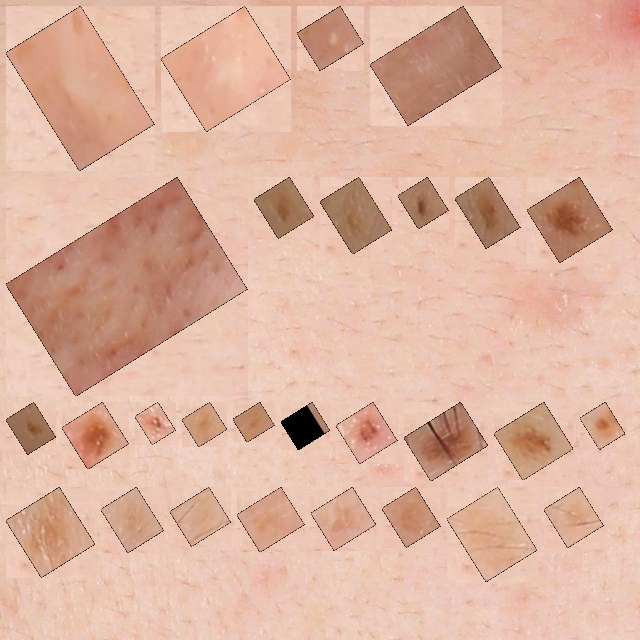hypertrophic_scar: (17, 188, 236, 385), (17, 17, 143, 159), (172, 17, 280, 120), (381, 17, 490, 114)
melasma: (458, 498, 526, 571), (17, 498, 84, 566), (331, 188, 381, 243), (248, 498, 293, 541), (112, 498, 153, 541), (322, 498, 365, 539), (265, 188, 303, 227), (181, 498, 220, 535), (555, 498, 592, 536), (393, 498, 429, 536), (193, 413, 216, 436), (244, 413, 263, 431)
nevus: (415, 413, 477, 470), (505, 413, 562, 469), (73, 413, 118, 458), (347, 413, 386, 452), (409, 188, 437, 218), (292, 413, 319, 439), (591, 413, 614, 438), (146, 413, 164, 433)
pustule: (308, 17, 353, 59)
